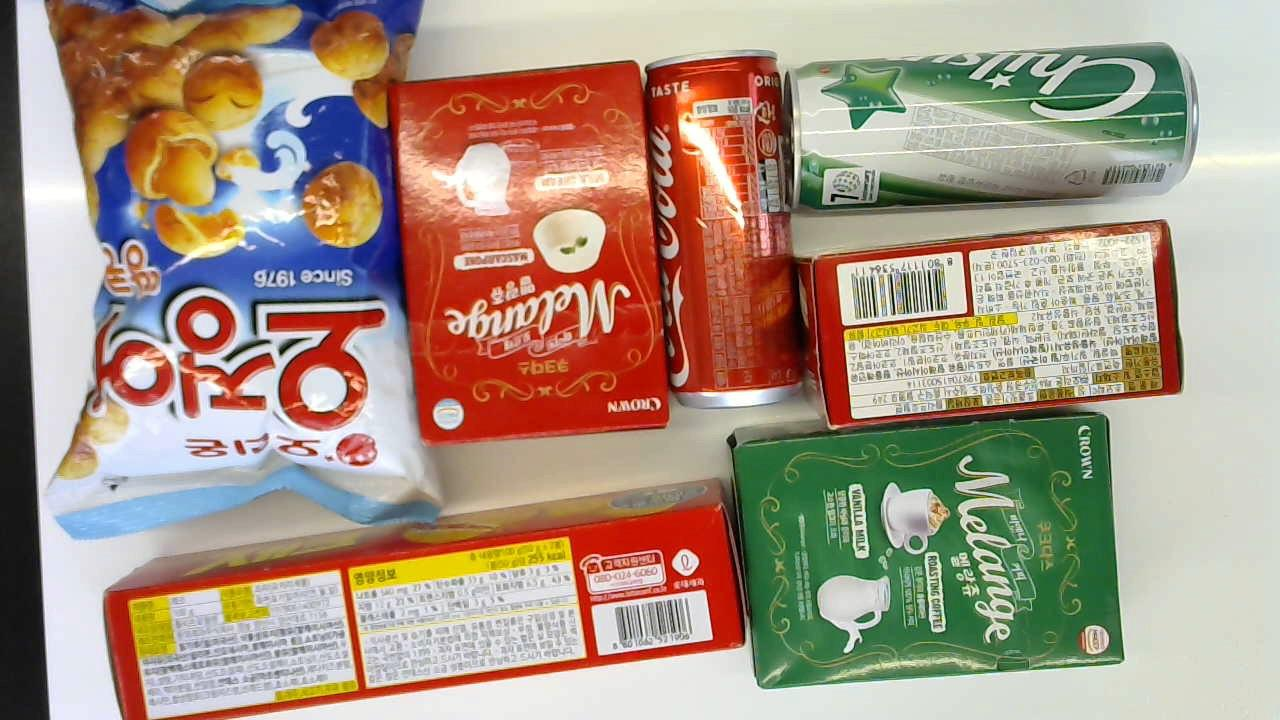chocopie: (804, 221, 1185, 431)
cidar: (785, 44, 1199, 216)
coke: (643, 48, 804, 407)
couque_coffee: (732, 410, 1134, 690)
couque_white: (387, 59, 670, 443)
squid_peanut: (46, 0, 444, 538)
zec: (102, 481, 744, 718)
